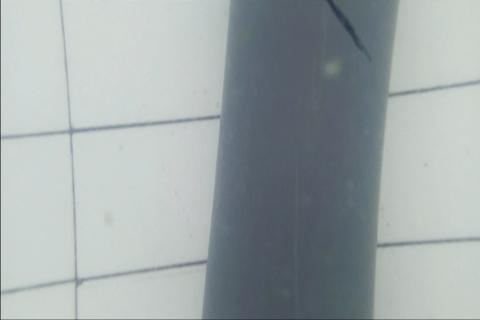keretakan: (323, 0, 372, 66)
